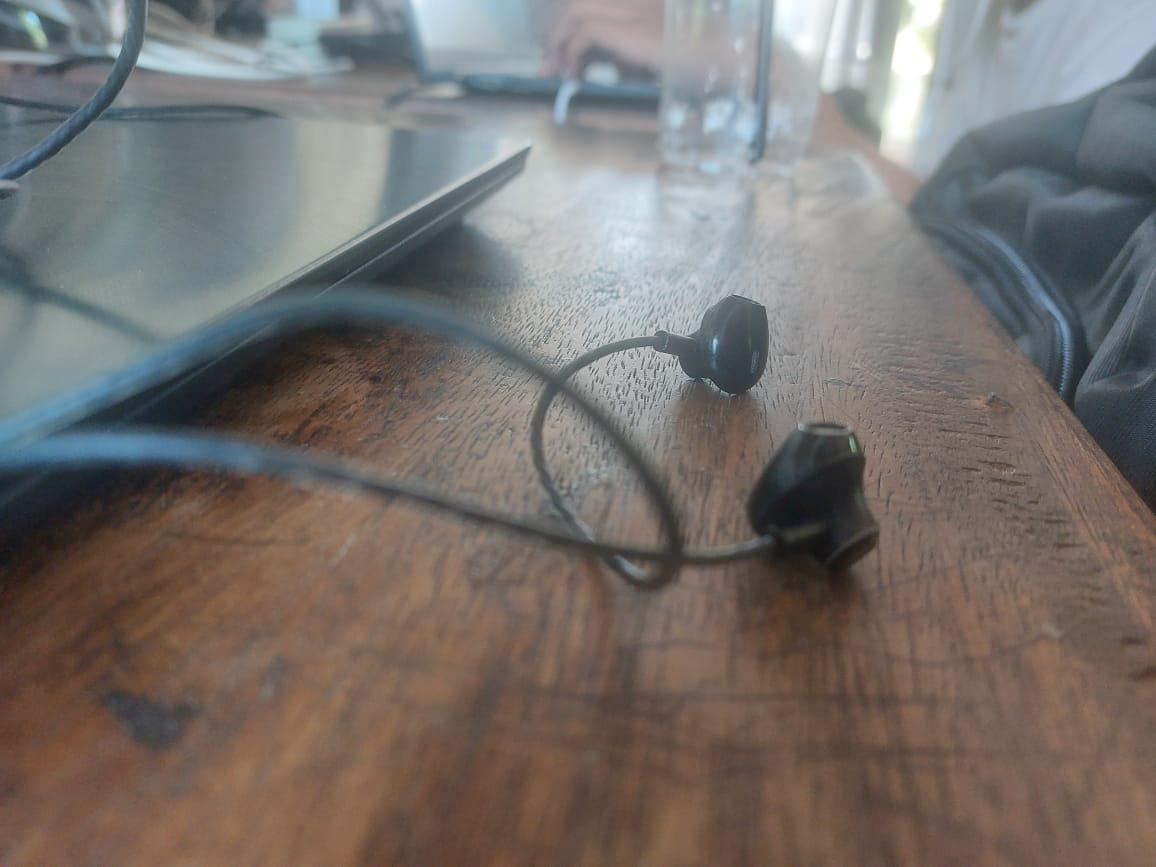Earphone: (738, 413, 899, 590), (638, 270, 785, 409)
